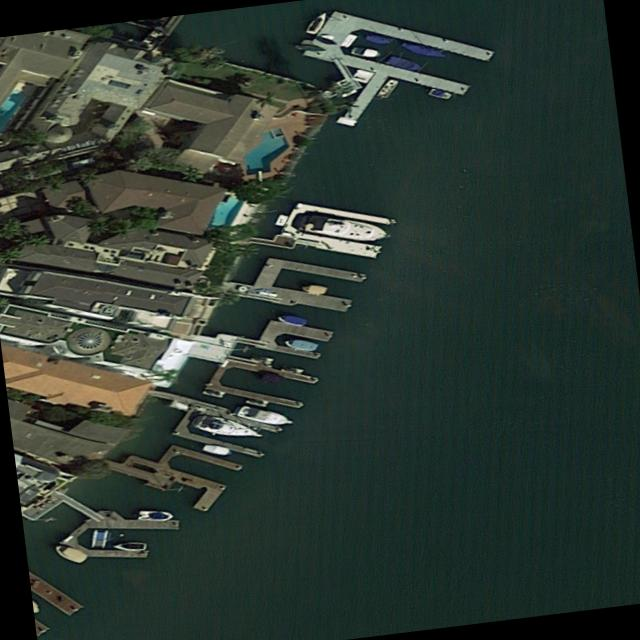ship: (301, 214, 396, 246), (189, 412, 267, 445), (234, 405, 297, 428), (400, 41, 450, 61), (52, 542, 89, 564), (304, 11, 332, 35), (386, 55, 423, 73), (200, 442, 234, 458), (283, 337, 319, 352), (275, 313, 309, 326), (255, 371, 286, 385), (350, 46, 383, 59), (364, 33, 394, 46), (138, 510, 177, 520), (89, 530, 110, 548), (113, 542, 148, 552), (300, 283, 329, 294)
